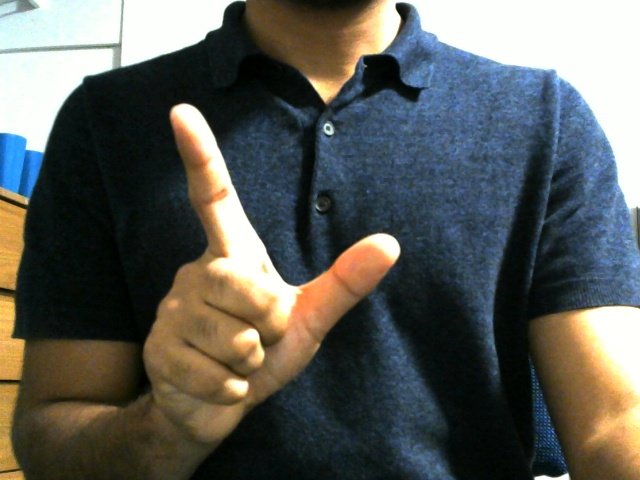L: (134, 104, 412, 412)
